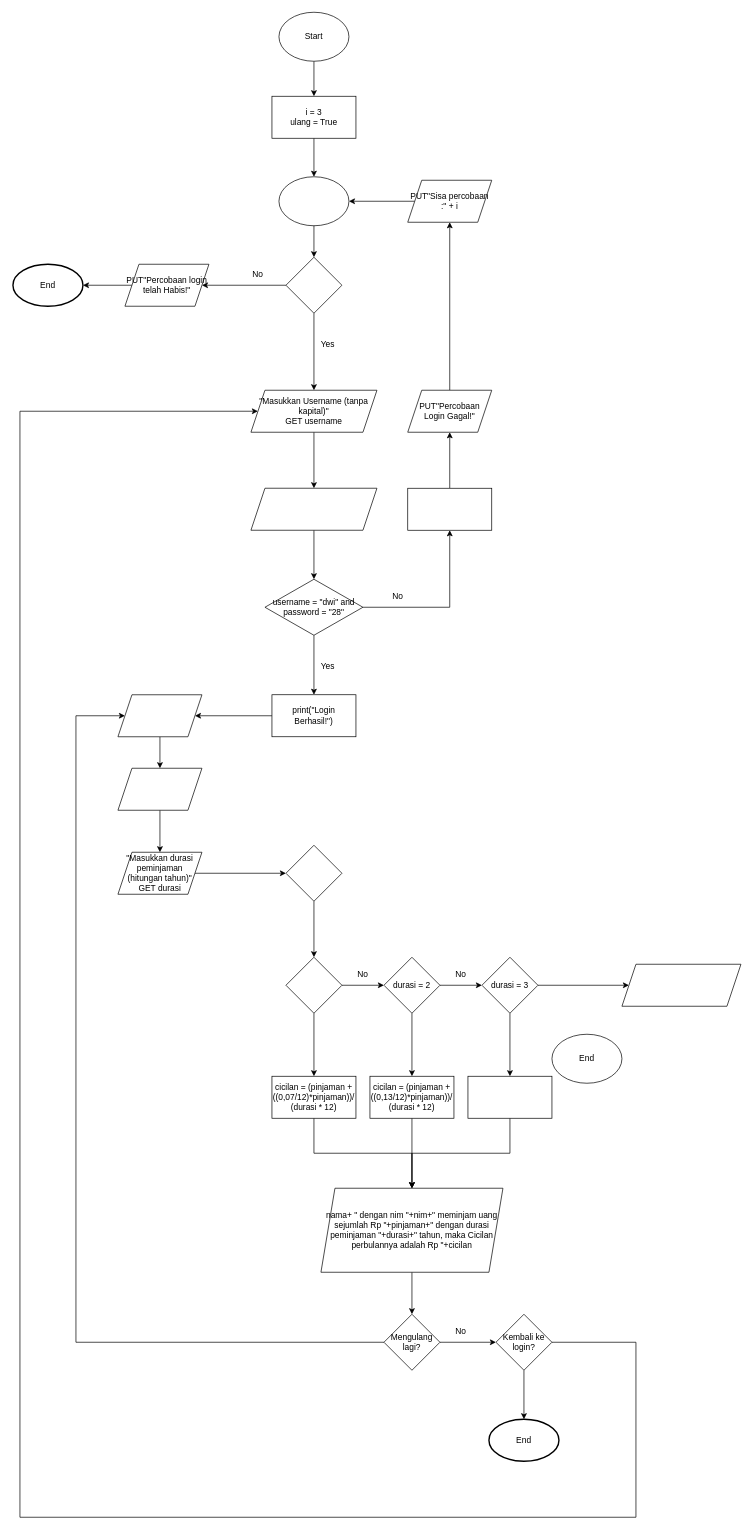
Some shapes in this 753 by 1535 pixel diagram are drawn without their labels. Here are the shapes that lost their labels. From the top down, the centre of each, then its label:
pixel 313 201: Loop
pixel 313 285: i > 0
pixel 313 509: "Masukkan Password (tidak perlu masukkan angka 0 di awal) :" Get password
pixel 449 509: i -= 1
pixel 159 715: "Masukkan nama peminjam" GET nama
pixel 159 789: "Masukkan NIM peminjam" GET nim
pixel 313 873: pinjaman >= 0
pixel 313 985: durasi = 1
pixel 681 985: PUT"Maaf, durasi pinjaman diluar 1 - 3 tahun
pixel 509 1097: cicilan = (pinjaman + ((0,19/12)*pinjaman))/ (durasi * 12)
